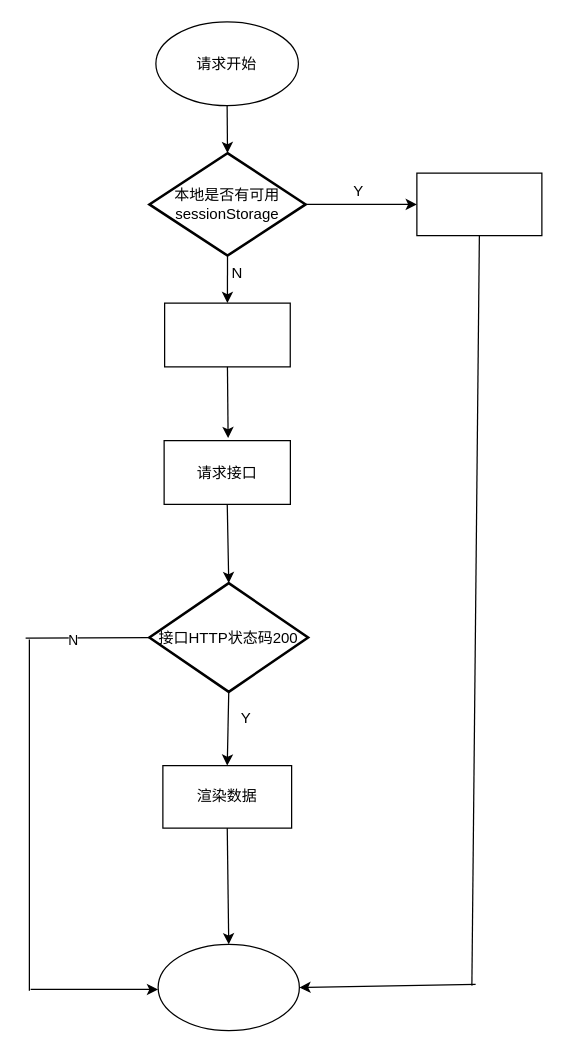
Some shapes in this 564 by 1053 pixel diagram are drawn without their labels. The box of each missing label's shape, as (x1, y1, x2, y2) in pixels:
向后台发送HTTP请求: (163, 302, 290, 367)
直接渲染: (416, 172, 542, 236)
结束: (157, 943, 299, 1031)
